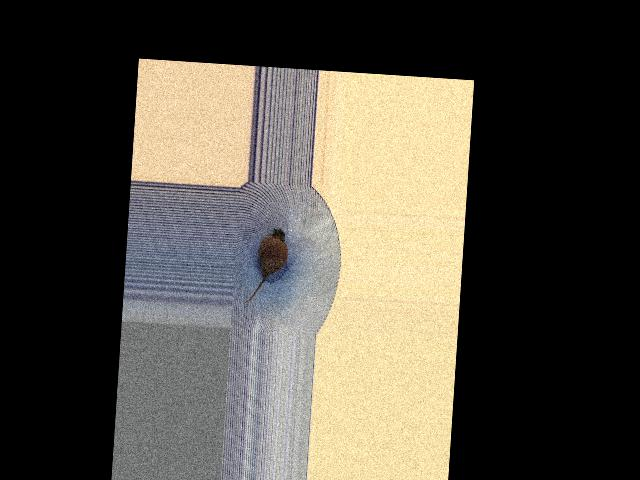beet: (244, 226, 288, 304)
